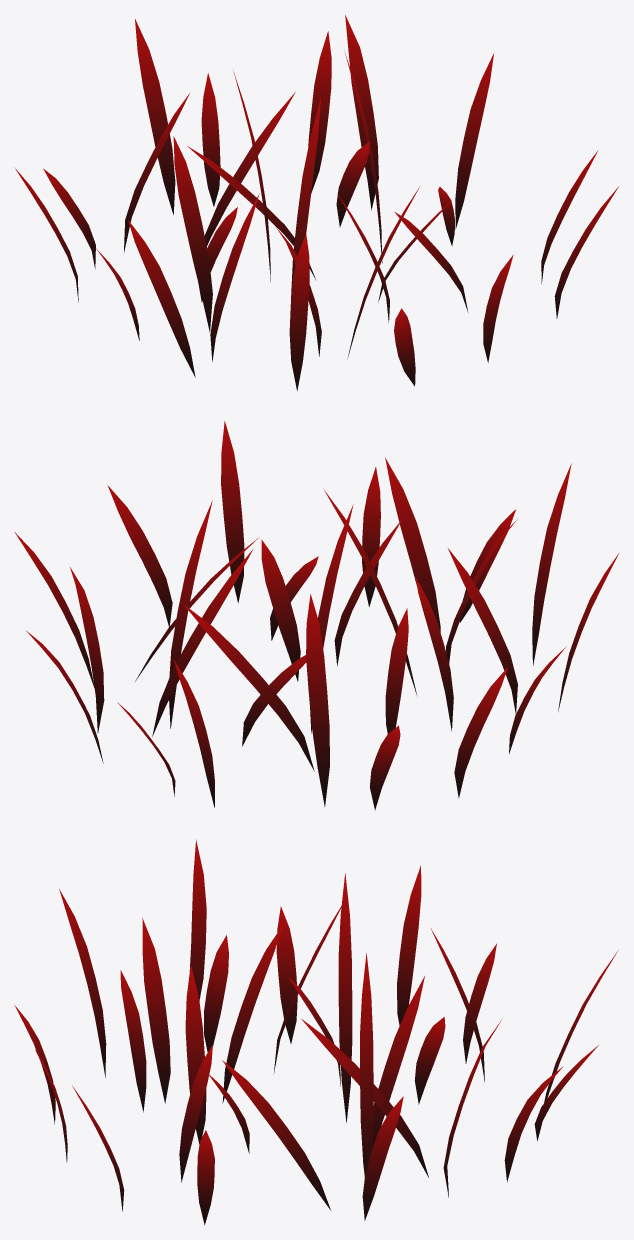
Rendered from GRASSMODELFINAL.fbx.
The picture shows the model from 3 angles, top to bottom: view 1: azimuth 30°, elevation 25°; view 2: azimuth 150°, elevation 25°; view 3: azimuth 270°, elevation 25°; orthographic projection. The views are drawn at different scales.
Visible parts, largest first — view 1: Grass; view 2: Grass; view 3: Grass.
Boxes of the visible parts, box(x1,y1,x2,y2) form: Grass: box(14, 15, 618, 390); Grass: box(14, 421, 618, 810); Grass: box(14, 839, 618, 1224).
Size of the model in its own units: 3.29 by 1.59 by 3.49.
